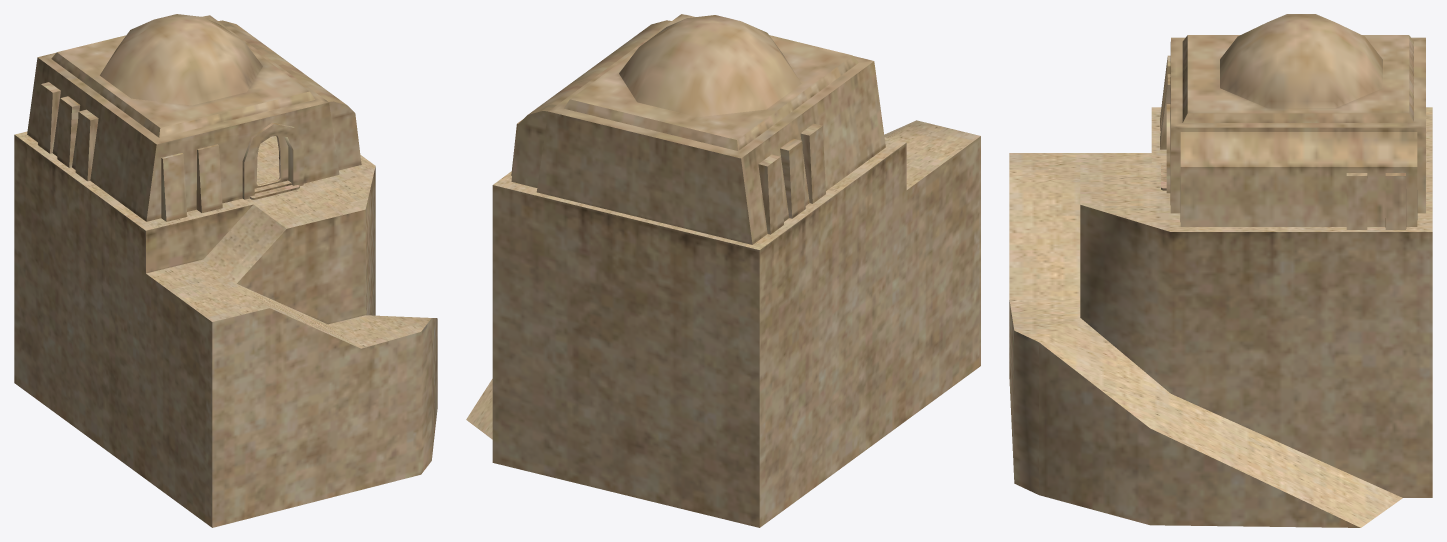
File: ply_tato_house_sm_s01_fp1_r0_mesh_l2.fbx
3 views of the same model, side by side, from view 1: azimuth 30°, elevation 25°; view 2: azimuth 150°, elevation 25°; view 3: azimuth 270°, elevation 25° (orthographic). The views are drawn at different scales.
Visible parts, largest first — view 1: mesh_node; view 2: mesh_node; view 3: mesh_node.
Boxes of the visible parts, left/top/right/bottom form: mesh_node: left=14, top=14, right=437, bottom=527; mesh_node: left=466, top=14, right=980, bottom=527; mesh_node: left=1009, top=14, right=1432, bottom=527.
Bounding box in the file's own units: 20.58 × 25.23 × 23.82.
